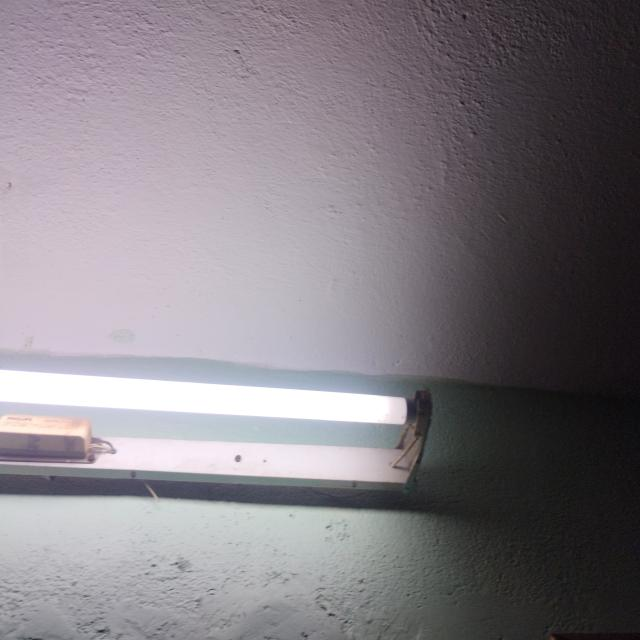tubelight_on: (0, 361, 436, 497)
